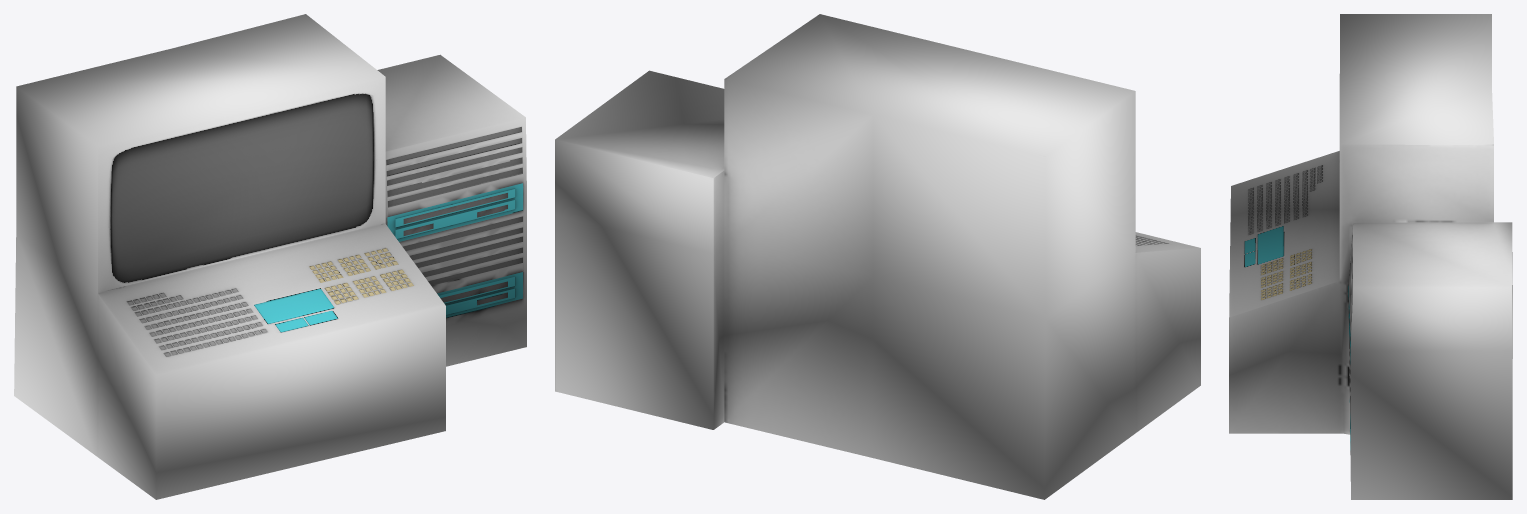
The model's file is computer.fbx.
3 renders of one model, left to right at view 1: azimuth 30°, elevation 25°; view 2: azimuth 150°, elevation 25°; view 3: azimuth 270°, elevation 25°, orthographic. The views are drawn at different scales.
Parts seen in each view (by area): view 1: computer:Mesh; view 2: computer:Mesh; view 3: computer:Mesh.
Boxes of the visible parts, <box> form: computer:Mesh: <box>14,14,526,499</box>; computer:Mesh: <box>555,14,1200,499</box>; computer:Mesh: <box>1229,14,1512,499</box>.
Bounding box in the file's own units: 2.52 × 1.73 × 1.53.
